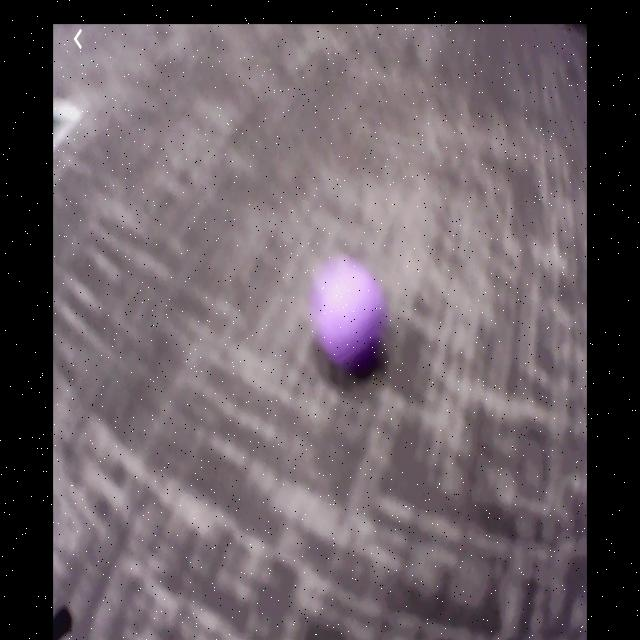ball: (314, 253, 381, 369)
